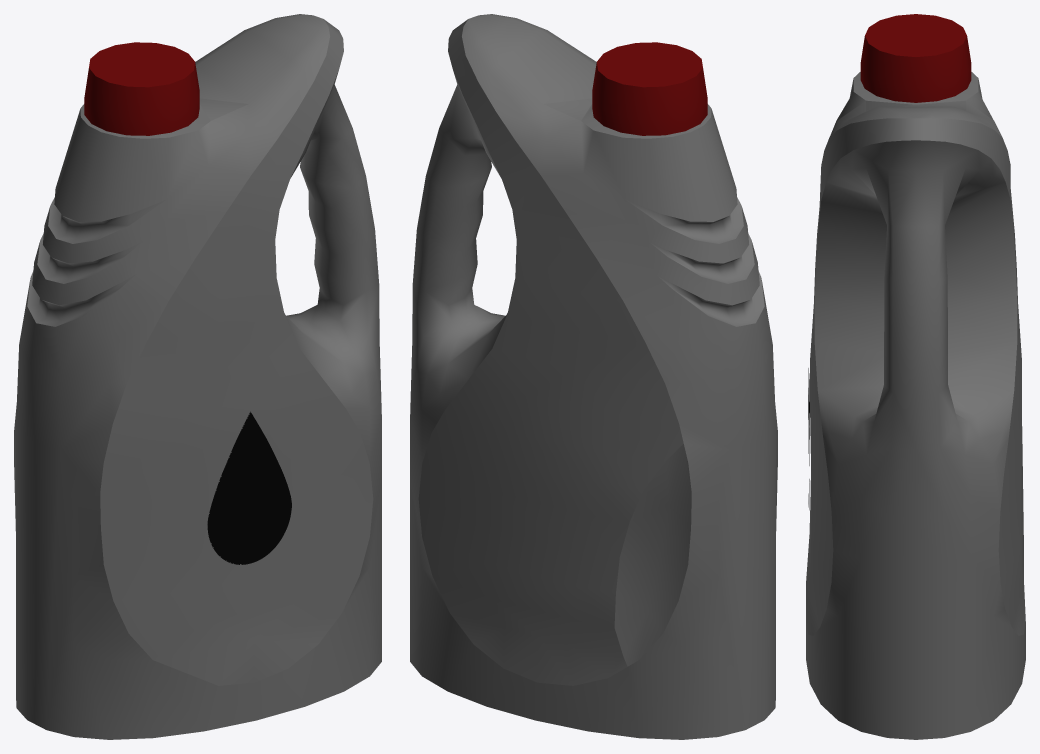
Rendered from motor oil.fbx.
3 views of the same model, side by side, from view 1: azimuth 30°, elevation 25°; view 2: azimuth 150°, elevation 25°; view 3: azimuth 270°, elevation 25° (orthographic). The views are drawn at different scales.
Visible parts, largest first — view 1: motor_oil, motor engine oil; view 2: motor_oil; view 3: motor_oil.
Part boxes in pixels (<box>): motor_oil: <box>14,14,381,739</box>; motor engine oil: <box>207,411,291,564</box>; motor_oil: <box>410,14,777,739</box>; motor_oil: <box>806,14,1025,739</box>.
Bounding box in the file's own units: 46.72 × 81.41 × 27.05.
2 materials, 2 textured.
